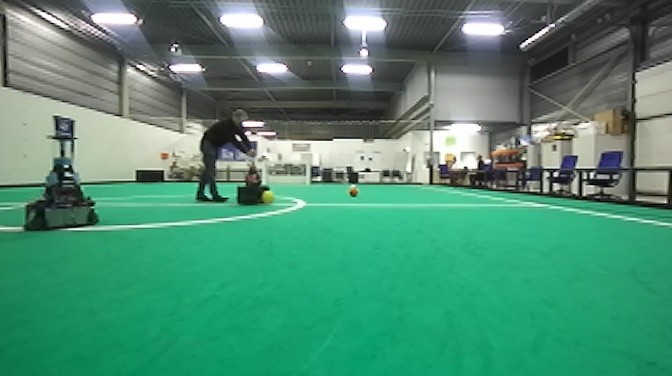ball: (261, 188, 276, 207), (346, 184, 360, 199)
goal: (263, 163, 309, 188)
goalpost: (306, 161, 311, 187), (263, 163, 267, 186)
human: (189, 106, 262, 207)
robot: (14, 112, 105, 236), (233, 152, 271, 210)
